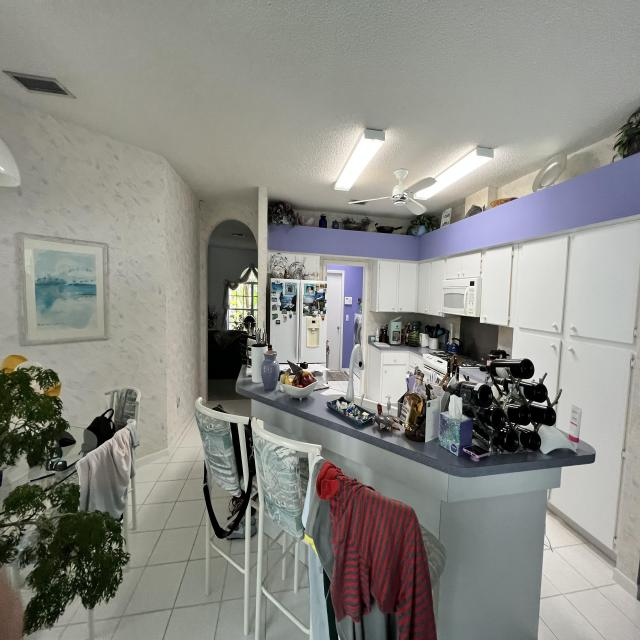Appliance_Fridge: (269, 279, 327, 382)
Appliance_Oven: (423, 351, 482, 375)
Cabinet_Flat: (377, 220, 640, 548), (380, 351, 426, 405)
Countertop_Granite: (237, 383, 597, 477), (370, 342, 422, 355), (461, 366, 487, 382)
